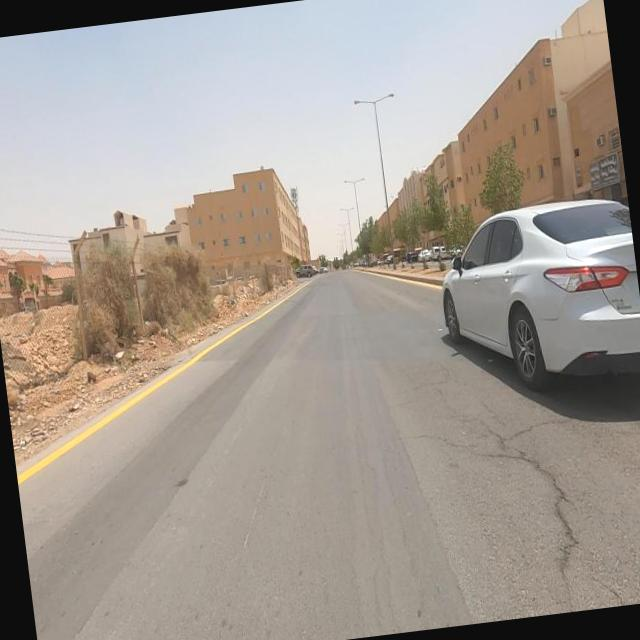debris: (84, 311, 160, 394), (207, 255, 264, 343)
